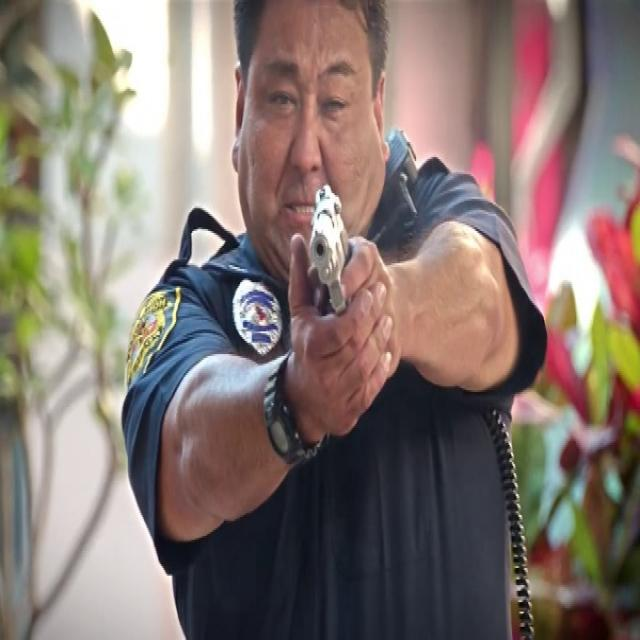weapons: (298, 147, 374, 400)
